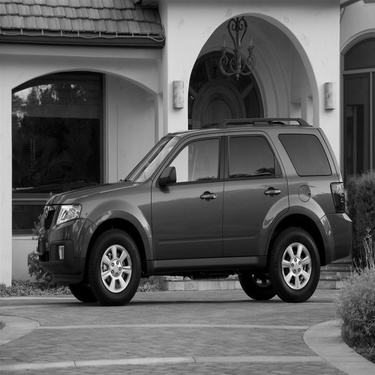car: (23, 115, 359, 309)
